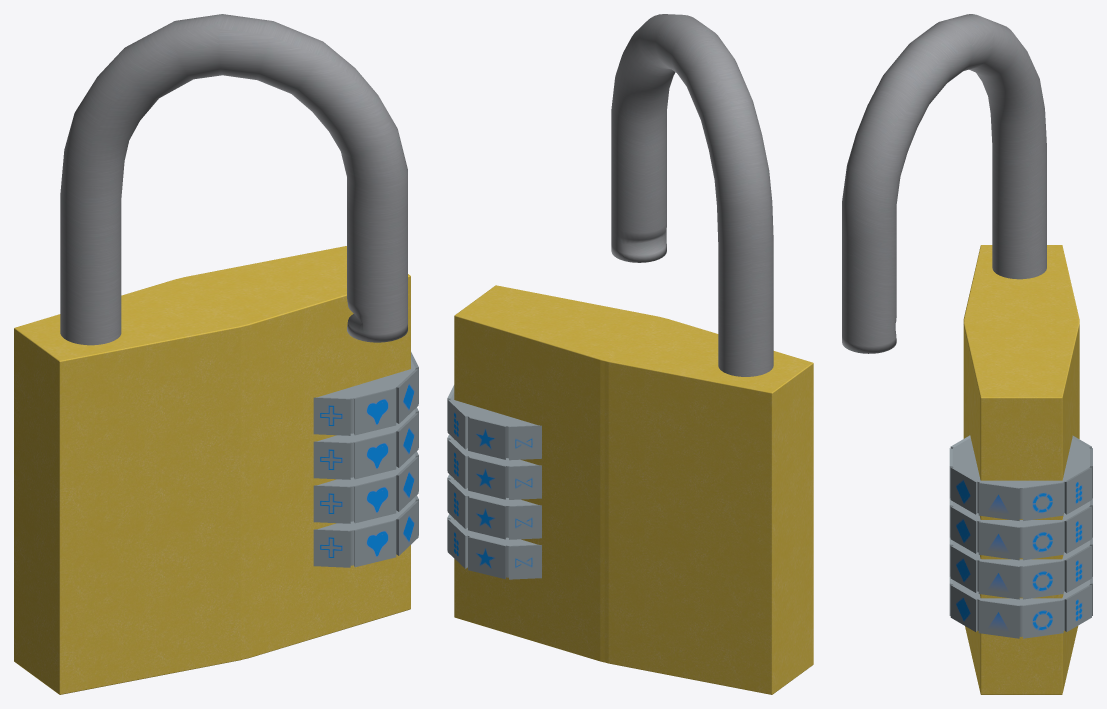
3 renders of one model, left to right at view 1: azimuth 30°, elevation 25°; view 2: azimuth 150°, elevation 25°; view 3: azimuth 270°, elevation 25°, orthographic. The views are drawn at different scales.
Visible parts, largest first — view 1: Cadenas_Body_Cube.001, Cadenas_Boucle_Circle.001, Cadenas_Digit0_Circle.005, Cadenas_Digit1_Circle.005, Cadenas_Digit2_Circle.005, Cadenas_Digit3_Circle.005; view 2: Cadenas_Body_Cube.001, Cadenas_Boucle_Circle.001, Cadenas_Digit0_Circle.005, Cadenas_Digit3_Circle.005, Cadenas_Digit2_Circle.005, Cadenas_Digit1_Circle.005; view 3: Cadenas_Boucle_Circle.001, Cadenas_Body_Cube.001, Cadenas_Digit0_Circle.005, Cadenas_Digit3_Circle.005, Cadenas_Digit2_Circle.005, Cadenas_Digit1_Circle.005.
Boxes of the visible parts, bbox=[...] form: Cadenas_Body_Cube.001: bbox=[14, 246, 410, 694]; Cadenas_Boucle_Circle.001: bbox=[60, 14, 407, 345]; Cadenas_Digit0_Circle.005: bbox=[313, 352, 418, 435]; Cadenas_Digit1_Circle.005: bbox=[313, 407, 418, 479]; Cadenas_Digit2_Circle.005: bbox=[313, 451, 418, 523]; Cadenas_Digit3_Circle.005: bbox=[313, 495, 418, 567]; Cadenas_Body_Cube.001: bbox=[454, 285, 813, 694]; Cadenas_Boucle_Circle.001: bbox=[611, 14, 773, 376]; Cadenas_Digit0_Circle.005: bbox=[447, 385, 541, 460]; Cadenas_Digit3_Circle.005: bbox=[447, 514, 541, 579]; Cadenas_Digit2_Circle.005: bbox=[447, 474, 541, 539]; Cadenas_Digit1_Circle.005: bbox=[447, 434, 541, 499]; Cadenas_Boucle_Circle.001: bbox=[842, 14, 1046, 353]; Cadenas_Body_Cube.001: bbox=[963, 245, 1079, 694]; Cadenas_Digit0_Circle.005: bbox=[949, 435, 1092, 520]; Cadenas_Digit3_Circle.005: bbox=[949, 576, 1092, 638]; Cadenas_Digit2_Circle.005: bbox=[949, 537, 1092, 599]; Cadenas_Digit1_Circle.005: bbox=[949, 498, 1092, 560].
Bounding box in the file's own units: 0.6266 × 1.06 × 0.4116.
3 materials, 3 textured.
